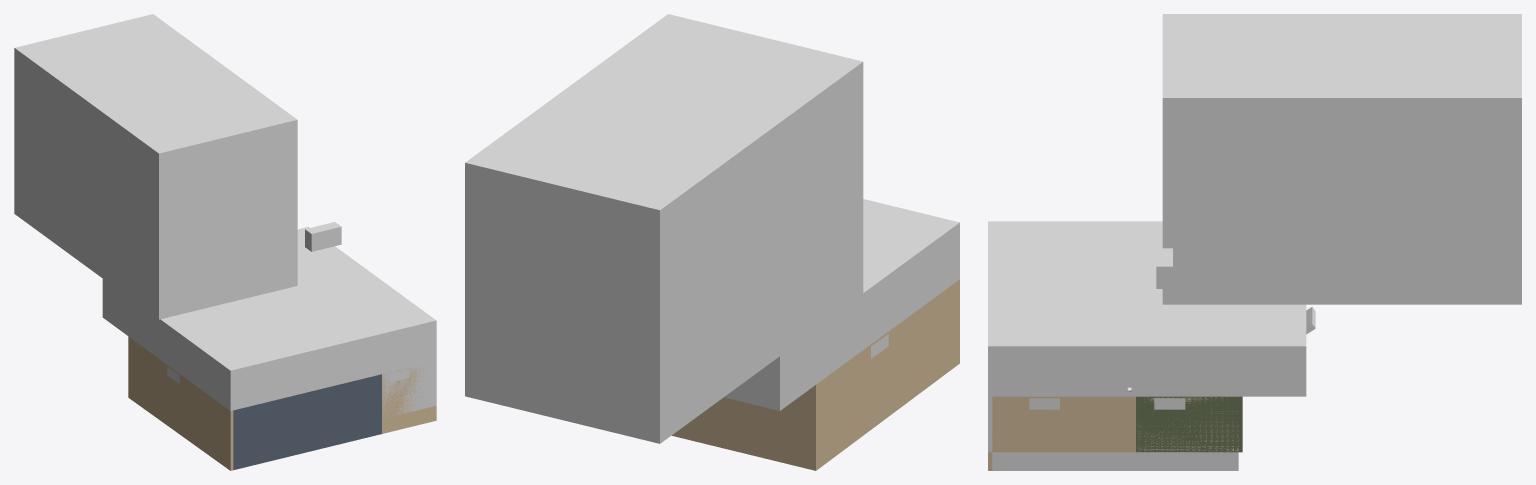
The model's file is apartment.glb.
3 renders of one model, left to right at view 1: azimuth 30°, elevation 25°; view 2: azimuth 150°, elevation 25°; view 3: azimuth 270°, elevation 25°, orthographic. The views are drawn at different scales.
Parts seen in each view (by area): view 1: Cube.035, Cube.402, Cube.306, Cube.392, Cube.389, Cube.003, Cube.287, Cube.613, Cube.004, Cube.036, Cube.163, Cube.593 (+7 smaller); view 2: Cube.402, Cube.306, Cube.392, Cube.391, Cube.335, Cube.004, Cube.035, Cube.034, Cube.036, Cube.578, Cube.613, Cube.344 (+4 smaller); view 3: Cube.286, Cube.390, Cube.035, Cube.402, Cube.037, Cube.031, Cube.260, Cube.592, Cube.029, Cube.030, Cube.389, Cube.344 (+4 smaller).
Part boxes in pixels (x1,y1,x2,y2): Cube.035: (158, 268, 436, 410); Cube.402: (20, 16, 292, 151); Cube.306: (17, 131, 161, 319); Cube.392: (17, 49, 161, 234); Cube.389: (160, 118, 297, 233); Cube.003: (233, 374, 381, 470); Cube.287: (194, 200, 297, 310); Cube.613: (130, 340, 233, 470); Cube.004: (130, 338, 232, 469); Cube.036: (102, 279, 158, 357); Cube.163: (382, 365, 436, 433); Cube.593: (382, 361, 436, 417); Cube.402: (473, 16, 856, 206); Cube.306: (663, 177, 860, 440); Cube.392: (660, 60, 862, 320); Cube.391: (465, 160, 663, 323); Cube.335: (509, 287, 659, 443); Cube.004: (818, 280, 959, 468); Cube.035: (859, 199, 959, 352); Cube.034: (672, 383, 818, 470); Cube.036: (724, 298, 858, 410); Cube.578: (483, 321, 663, 443); Cube.613: (884, 279, 959, 405); Cube.344: (465, 276, 482, 400); Cube.286: (1166, 198, 1515, 304); Cube.390: (1166, 96, 1515, 198); Cube.035: (988, 221, 1166, 396); Cube.402: (1166, 15, 1515, 96); Cube.037: (1166, 304, 1306, 396); Cube.031: (992, 396, 1135, 452); Cube.260: (1136, 396, 1238, 452); Cube.592: (992, 396, 1238, 452); Cube.029: (992, 452, 1135, 470); Cube.030: (1136, 452, 1238, 470); Cube.389: (1162, 15, 1166, 198); Cube.344: (1515, 198, 1521, 304).
Size of the model in its own units: 14.62 by 19.8 by 26.
